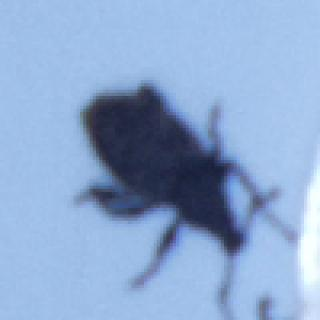bvw: (71, 80, 300, 316)
